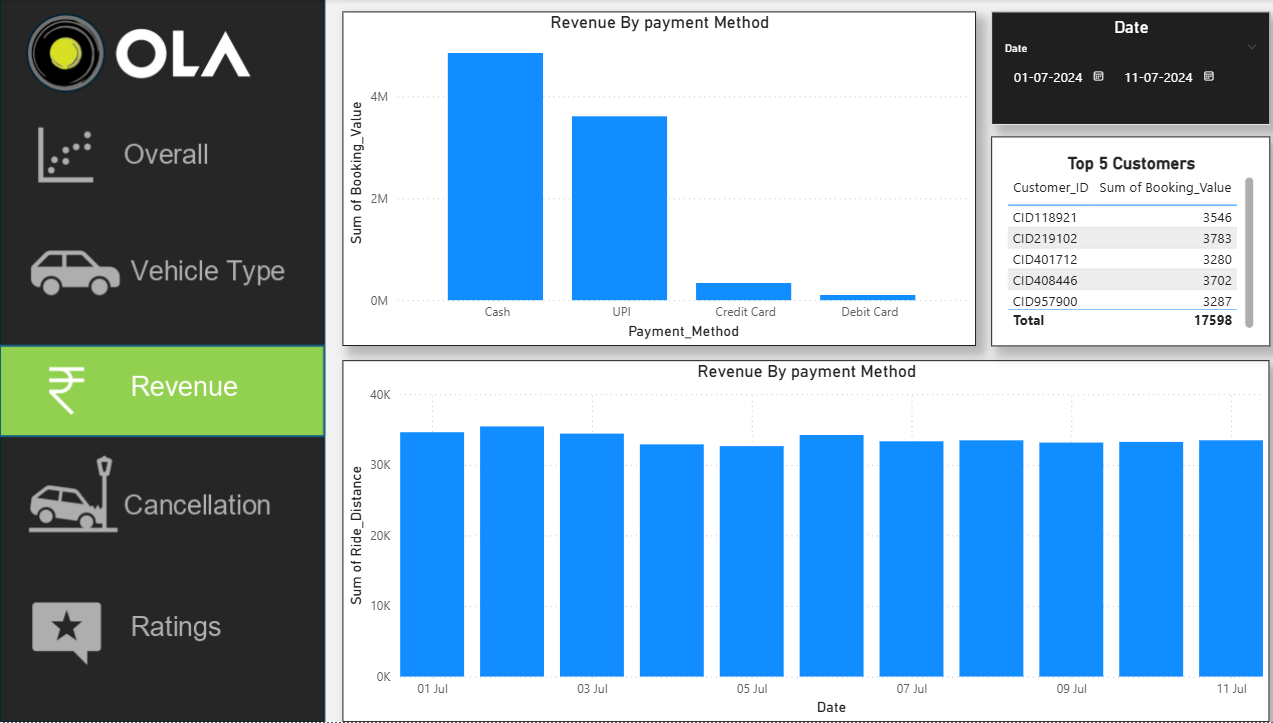

Layout of this report page (visuals, bound fields, positions):
{"tool":"powerbi","page":{"name":"revenue","canvas":[1280,720],"ordinal":2},"visuals":[{"type":"image","box":[0,0,1280,720.3],"z":0},{"type":"actionButton","box":[0,220.9,322.7,90.8],"z":1000},{"type":"actionButton","box":[0,344.6,322.2,90.8],"z":2000},{"type":"actionButton","box":[0,451.6,322.2,92.1],"z":3000},{"type":"actionButton","box":[0,589.6,322.2,79.6],"z":4000},{"type":"actionButton","box":[0,115.7,322.2,78.4],"z":5000},{"type":"columnChart","title":"Revenue By payment Method","fields":{"Y":["Sum(July.Booking_Value)"],"Category":["July.Payment_Method"]},"box":[341.2,12.5,630,332.5],"z":6000},{"type":"columnChart","title":"Revenue By payment Method","fields":{"Y":["Sum(July.Ride_Distance)"],"Category":["July.Date"]},"box":[341.2,360,922.5,360],"z":7000},{"type":"slicer","title":"Date","fields":{"Values":["July.Date"]},"box":[986.2,12.5,277.5,112.5],"z":8000},{"type":"tableEx","title":"Top 5 Customers","fields":{"Values":["July.Customer_ID","Sum(July.Booking_Value)"]},"box":[986.2,136.2,277.5,208.8],"z":9000}]}

Visuals, with their boxes in screenshot pixels (x1, y1, x2, y2), scaled from the page's 1280x720 canvas onto the 1273x723 screenshot:
image: 0/0/1272/722
actionButton: 0/222/321/313
actionButton: 0/346/320/437
actionButton: 0/453/320/546
actionButton: 0/592/320/672
actionButton: 0/116/320/195
"Revenue By payment Method" columnChart: 339/13/966/346
"Revenue By payment Method" columnChart: 339/362/1257/722
"Date" slicer: 981/13/1257/126
"Top 5 Customers" tableEx: 981/137/1257/346
